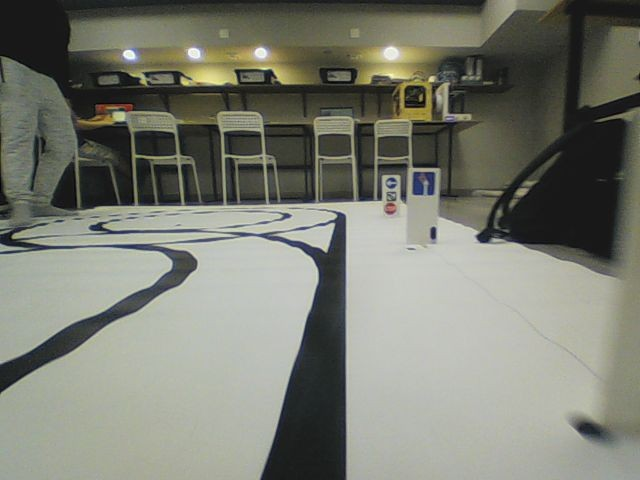priority_movement: (412, 171, 435, 198)
